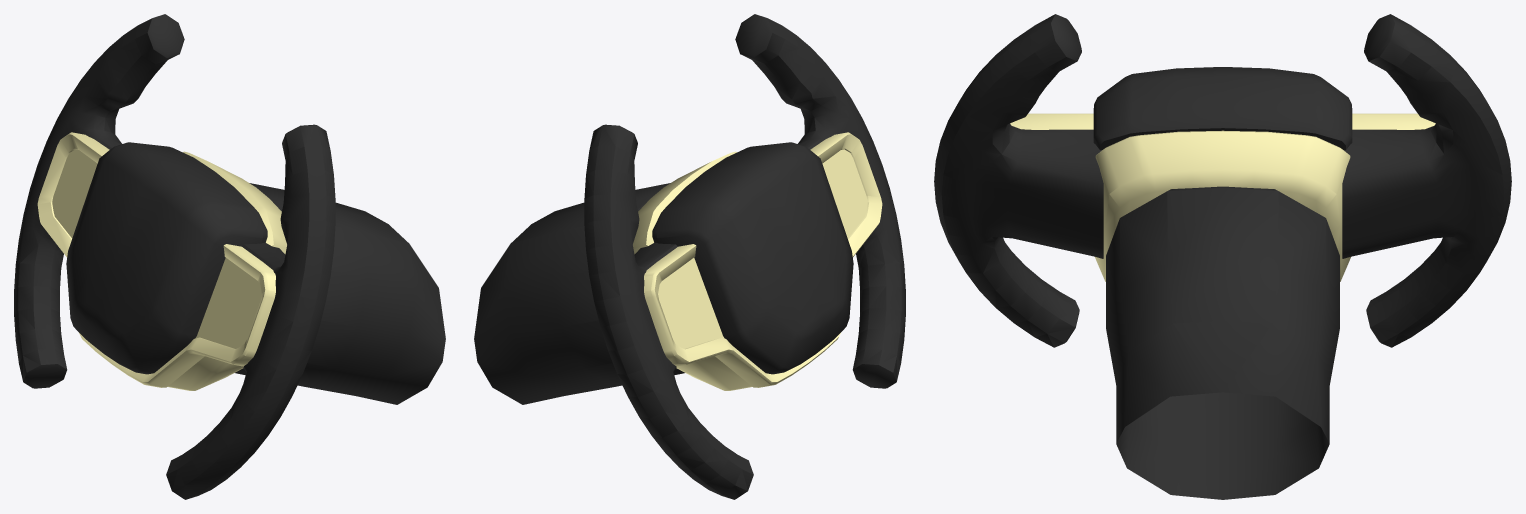
Rendered from steeringWheel.fbx.
3 renders of one model, left to right at view 1: azimuth 30°, elevation 25°; view 2: azimuth 150°, elevation 25°; view 3: azimuth 270°, elevation 25°, orthographic. The views are drawn at different scales.
Visible parts, largest first — view 1: SteeringWheel.001, SteeringWheelNecK; view 2: SteeringWheel.001, SteeringWheelNecK; view 3: SteeringWheel.001, SteeringWheelNecK.
Boxes of the visible parts, left/top/right/bottom form: SteeringWheel.001: left=14, top=14, right=335, bottom=499; SteeringWheelNecK: left=235, top=183, right=445, bottom=404; SteeringWheel.001: left=584, top=14, right=905, bottom=499; SteeringWheelNecK: left=474, top=183, right=684, bottom=404; SteeringWheel.001: left=934, top=14, right=1511, bottom=347; SteeringWheelNecK: left=1106, top=186, right=1339, bottom=499.
Bounding box in the file's own units: 32.29 × 34.26 × 44.27.
